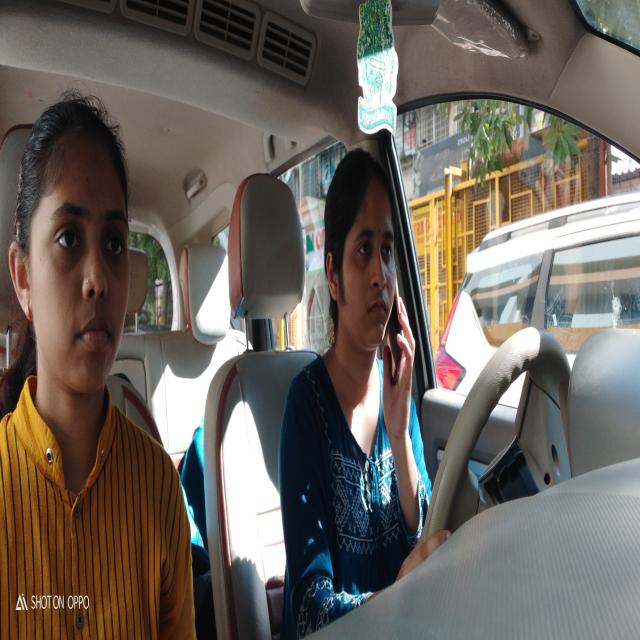mobile: (382, 286, 404, 403)
person: (6, 92, 137, 411), (322, 150, 397, 355)
